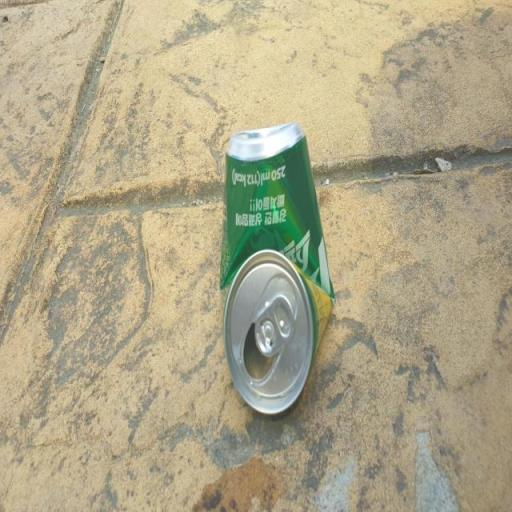metal: (189, 87, 355, 420)
